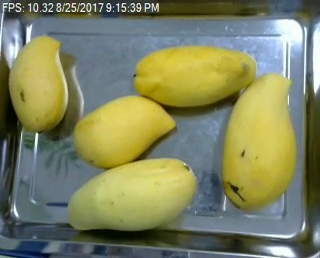Mango: (221, 71, 298, 205), (62, 157, 199, 232), (129, 42, 259, 107), (75, 95, 172, 167), (9, 36, 67, 132)
